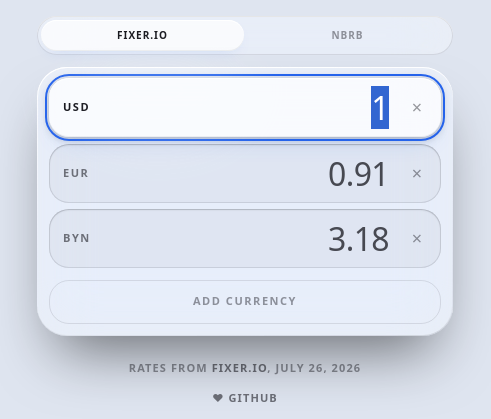
Test: reprices everything when another source is picked
This screenshot has width=491, height=419.
Expected: the field named "Amount in BYN" holds "3.18", [147, 216, 389, 260]
Click the button "NBRB" at x=348, y=35, box [246, 20, 449, 50]
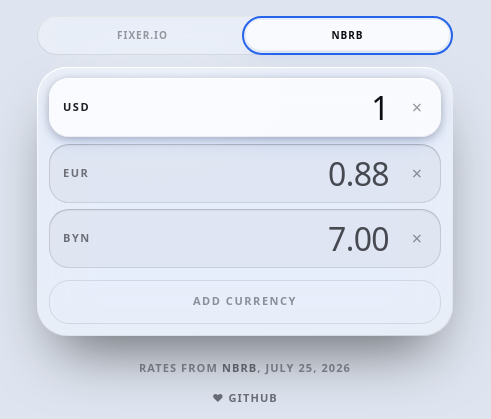
Result: the field named "Amount in BYN" holds "7.00" at [147, 216, 389, 260]
Result: the text "Rates from NBRB , July 25, 2026" is shown at [139, 360, 351, 376]
